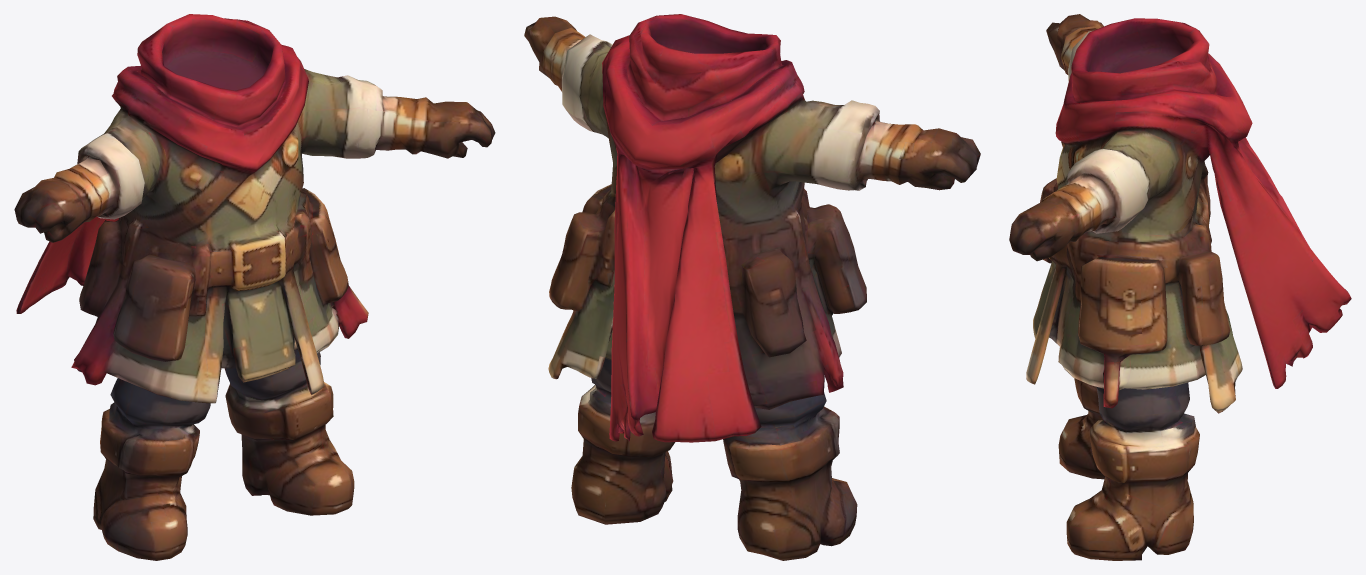
3 views of the same model, side by side, from view 1: azimuth 30°, elevation 25°; view 2: azimuth 150°, elevation 25°; view 3: azimuth 270°, elevation 25° (orthographic). The views are drawn at different scales.
Parts seen in each view (by area): view 1: tripo_node_e53c7c04-0943-4392-b60f-a9078ca3f28f; view 2: tripo_node_e53c7c04-0943-4392-b60f-a9078ca3f28f; view 3: tripo_node_e53c7c04-0943-4392-b60f-a9078ca3f28f.
Boxes of the visible parts, x1,y1,x2,y2 form: tripo_node_e53c7c04-0943-4392-b60f-a9078ca3f28f: (14,14,495,560); tripo_node_e53c7c04-0943-4392-b60f-a9078ca3f28f: (524,14,980,560); tripo_node_e53c7c04-0943-4392-b60f-a9078ca3f28f: (1009,14,1351,560).
Bounding box in the file's own units: 0.9701 × 0.9774 × 0.6463.
1 material, 1 textured.
